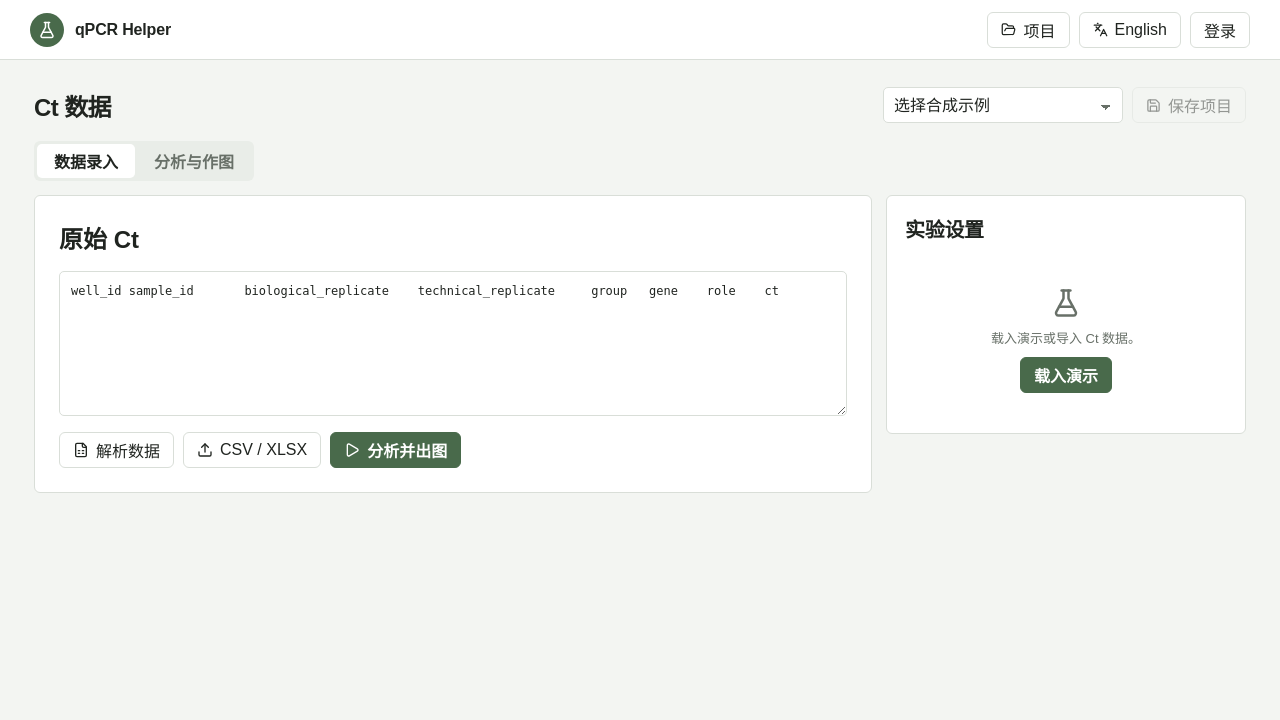
Test case: qPCR workbench › dismisses the modal project library with Escape
Click the button "项目" at {"x": 1028, "y": 30}, box top-left (988, 12), bottom-right (1070, 48)
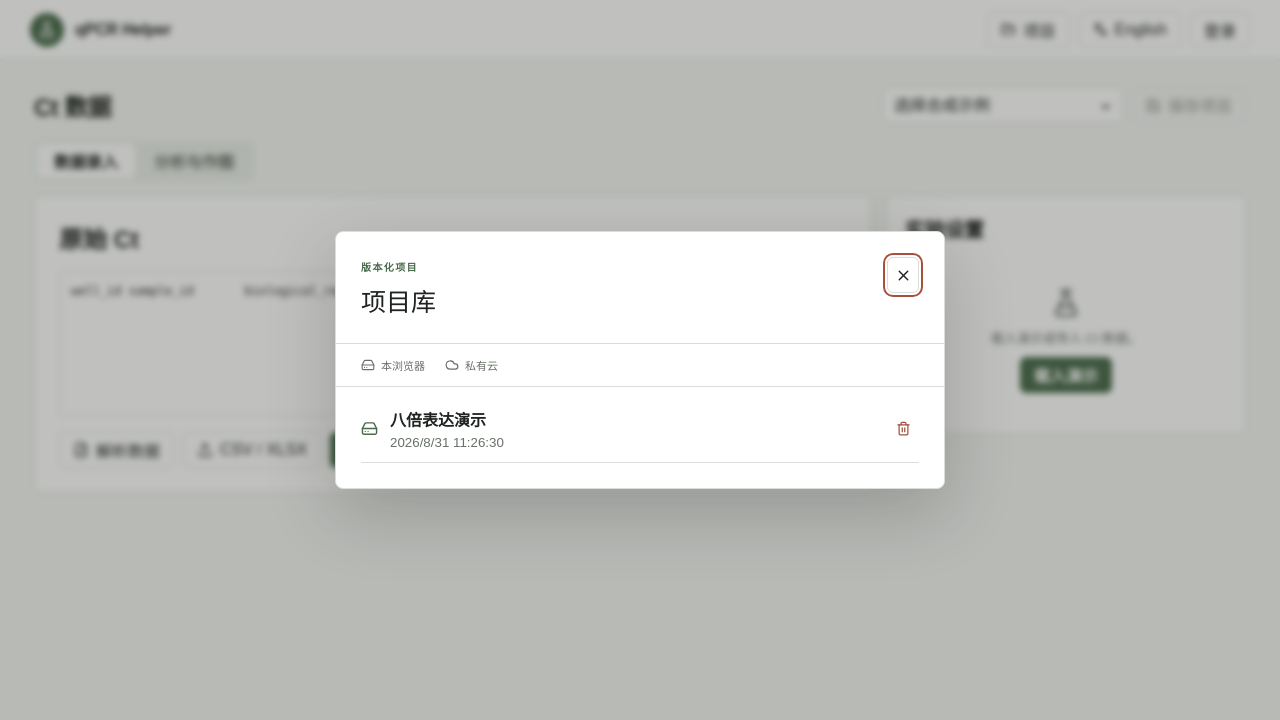
Expected: the dialog "版本化项目 项目库 本浏览器 私有云 八倍表达演示 2026/8/31 11:26:30" is shown, top-left (335, 231), bottom-right (945, 489)
Press Escape
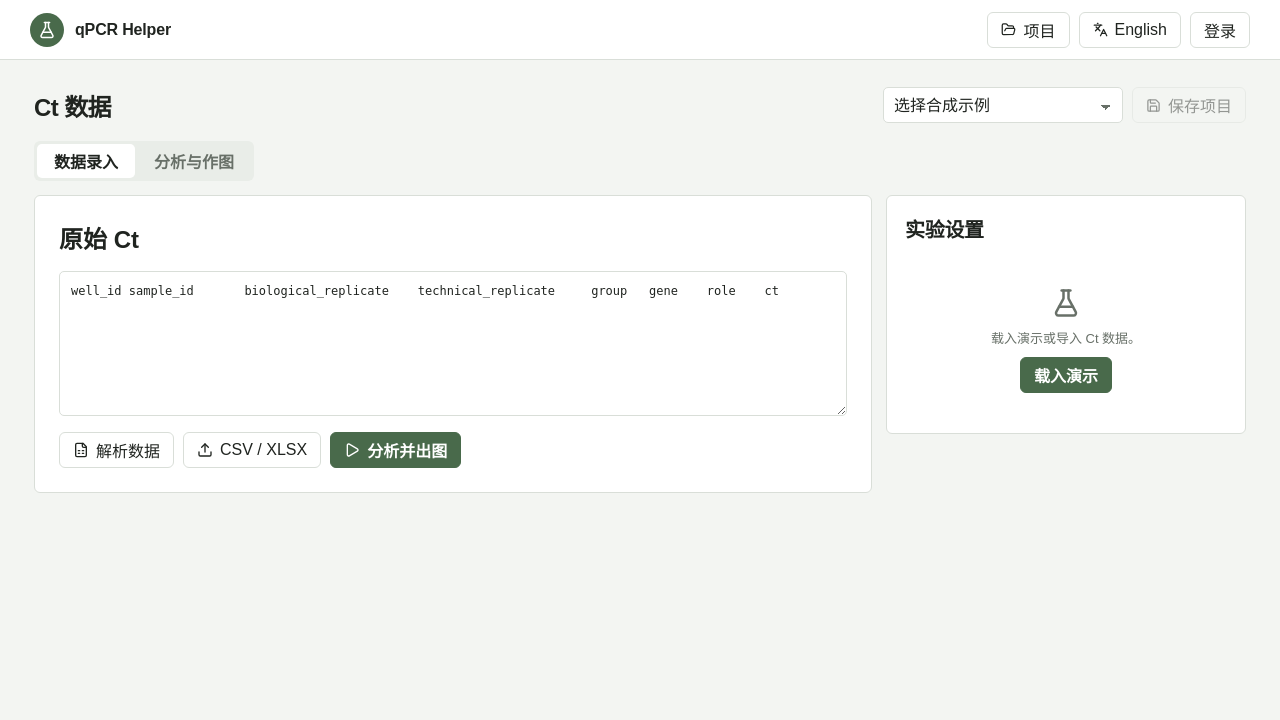
Expected: the heading "项目库" is gone
